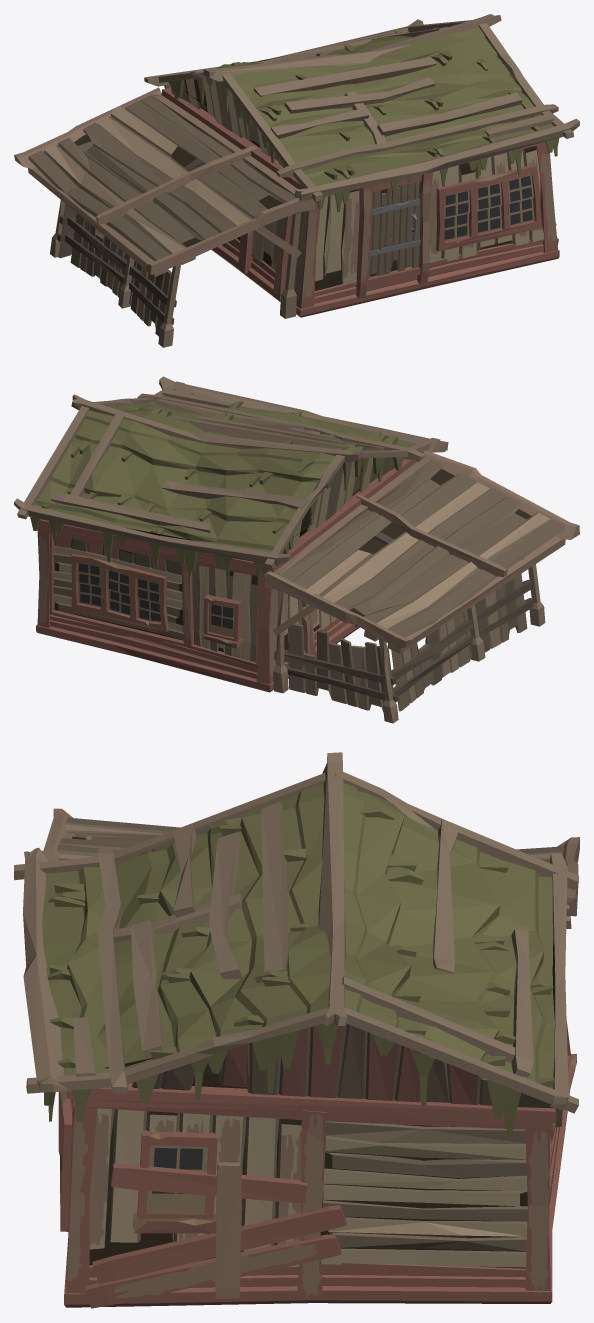
File: SM_Bld_Shanty_Preset_06.glb
3 views of the same model, one above another, from view 1: azimuth 30°, elevation 25°; view 2: azimuth 150°, elevation 25°; view 3: azimuth 270°, elevation 25° (orthographic). The views are drawn at different scales.
Parts seen in each view (by area): view 1: SM_Bld_Shanty_Preset_06_part00; view 2: SM_Bld_Shanty_Preset_06_part00; view 3: SM_Bld_Shanty_Preset_06_part00.
Boxes of the visible parts, left/top/right/bottom form: SM_Bld_Shanty_Preset_06_part00: left=14, top=14, right=579, bottom=347; SM_Bld_Shanty_Preset_06_part00: left=14, top=376, right=579, bottom=723; SM_Bld_Shanty_Preset_06_part00: left=14, top=752, right=579, bottom=1308.
Size of the model in its own units: 8.92 by 4.06 by 6.01.
Materials: 1 (1 with a texture image).
